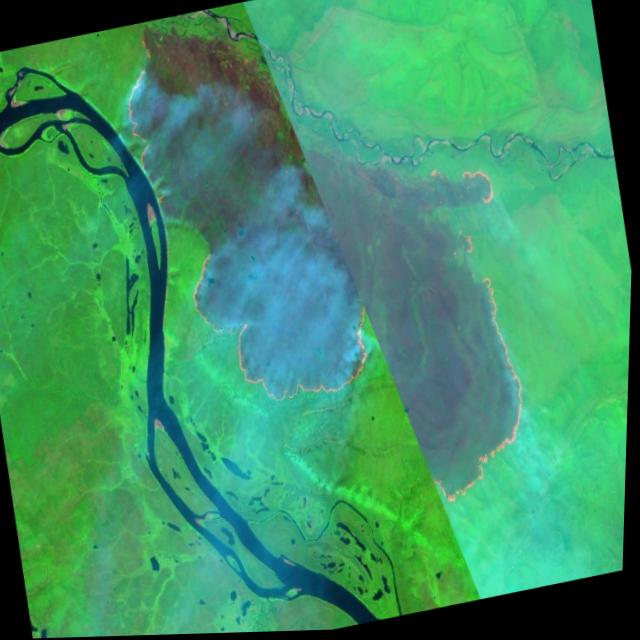fire: (380, 155, 554, 515), (180, 222, 386, 427), (109, 19, 193, 221)
